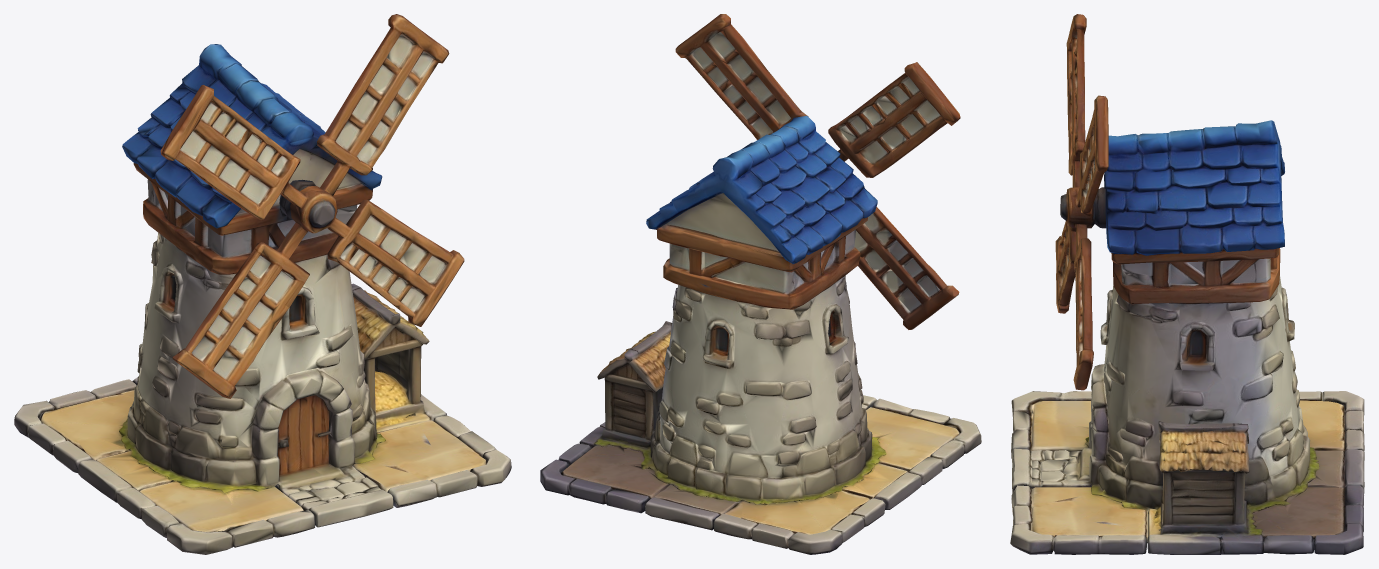
File: windmill-high.glb
The picture shows the model from 3 angles, left to right: view 1: azimuth 30°, elevation 25°; view 2: azimuth 150°, elevation 25°; view 3: azimuth 270°, elevation 25°; orthographic projection. The views are drawn at different scales.
Parts seen in each view (by area): view 1: tripo_node_c4f8d6cc-7c40-4174-ace1-59bc56e6c0d0; view 2: tripo_node_c4f8d6cc-7c40-4174-ace1-59bc56e6c0d0; view 3: tripo_node_c4f8d6cc-7c40-4174-ace1-59bc56e6c0d0.
Part boxes in pixels (x1,y1,x2,y2): tripo_node_c4f8d6cc-7c40-4174-ace1-59bc56e6c0d0: [14, 14, 511, 554]; tripo_node_c4f8d6cc-7c40-4174-ace1-59bc56e6c0d0: [540, 14, 981, 554]; tripo_node_c4f8d6cc-7c40-4174-ace1-59bc56e6c0d0: [1010, 14, 1364, 554].
Bounding box in the file's own units: 0.771 × 0.9986 × 0.7575.
1 material, 1 textured.
